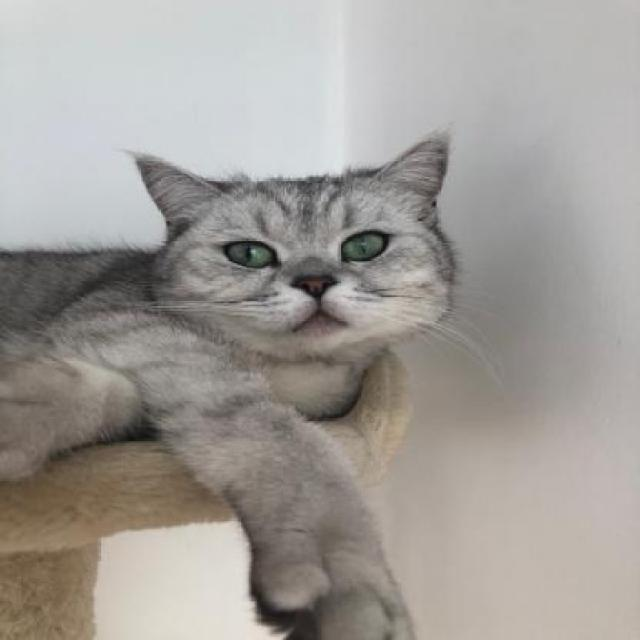cat-face: (100, 130, 506, 346)
